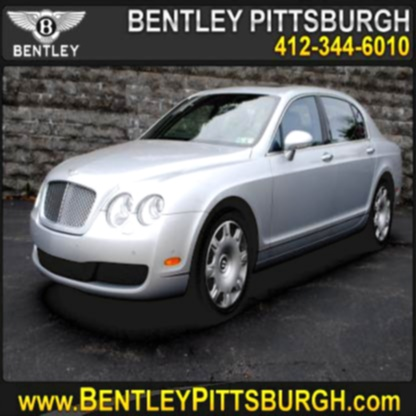Vehicle: (29, 83, 404, 312)
